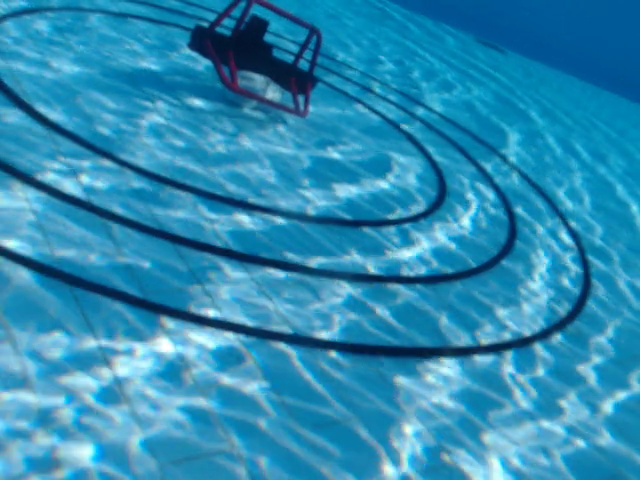submarine: (187, 1, 323, 120)
